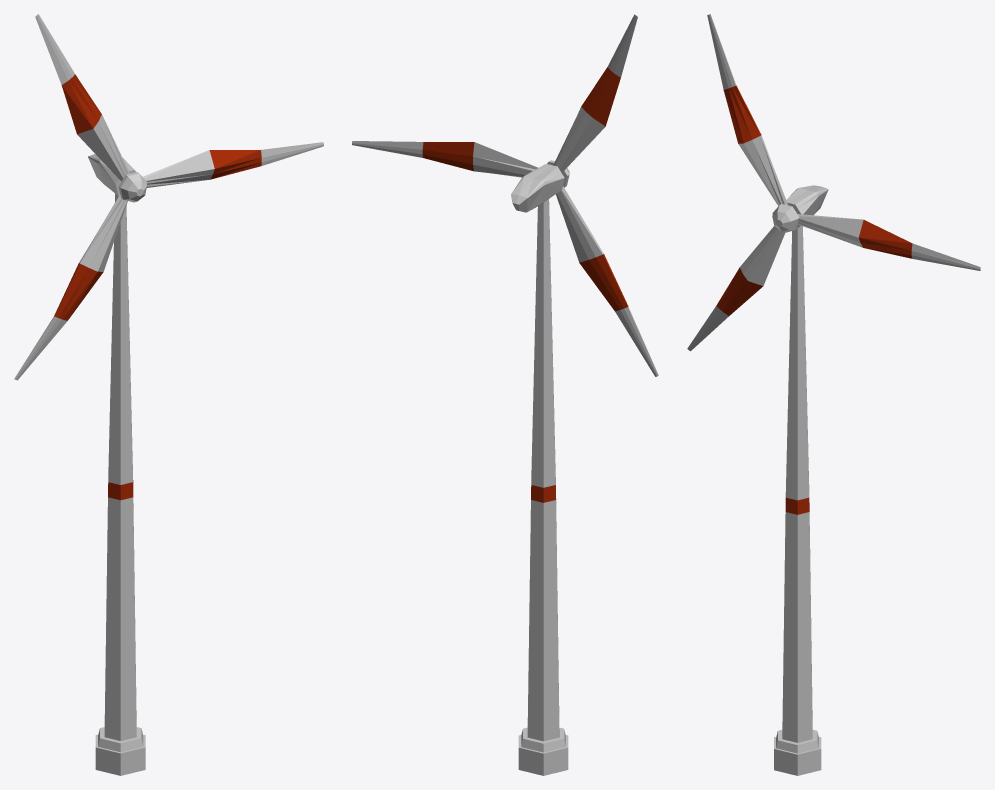
File: wind_turbine.fbx
The picture shows the model from 3 angles, left to right: view 1: azimuth 30°, elevation 25°; view 2: azimuth 150°, elevation 25°; view 3: azimuth 330°, elevation 25°; orthographic projection. The views are drawn at different scales.
Parts seen in each view (by area): view 1: main, lopatky; view 2: main, lopatky; view 3: main, lopatky.
Boxes of the visible parts, x1,y1,x2,y2 form: main: (88, 154, 146, 775); lopatky: (14, 14, 323, 380); main: (511, 160, 569, 775); lopatky: (352, 14, 658, 376); main: (772, 185, 828, 775); lopatky: (687, 14, 980, 351).
Bounding box in the file's own units: 919 × 2198 × 245.
